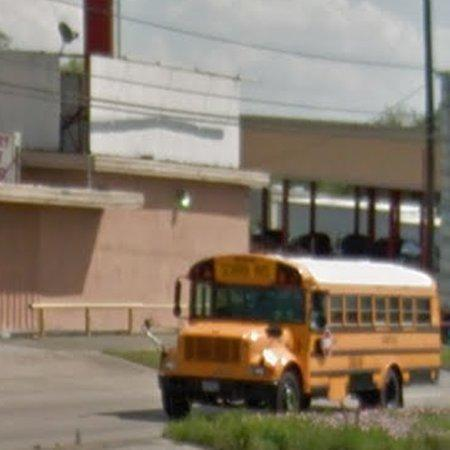buses: (159, 254, 441, 419)
